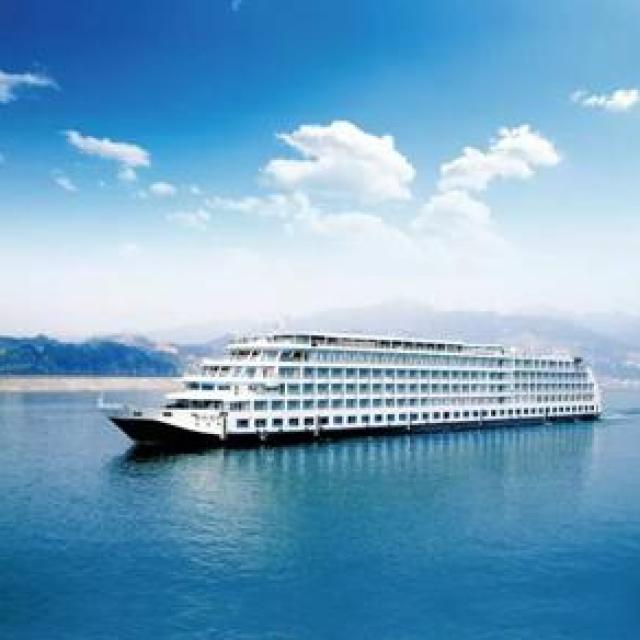passenger ship: (115, 324, 602, 452)
